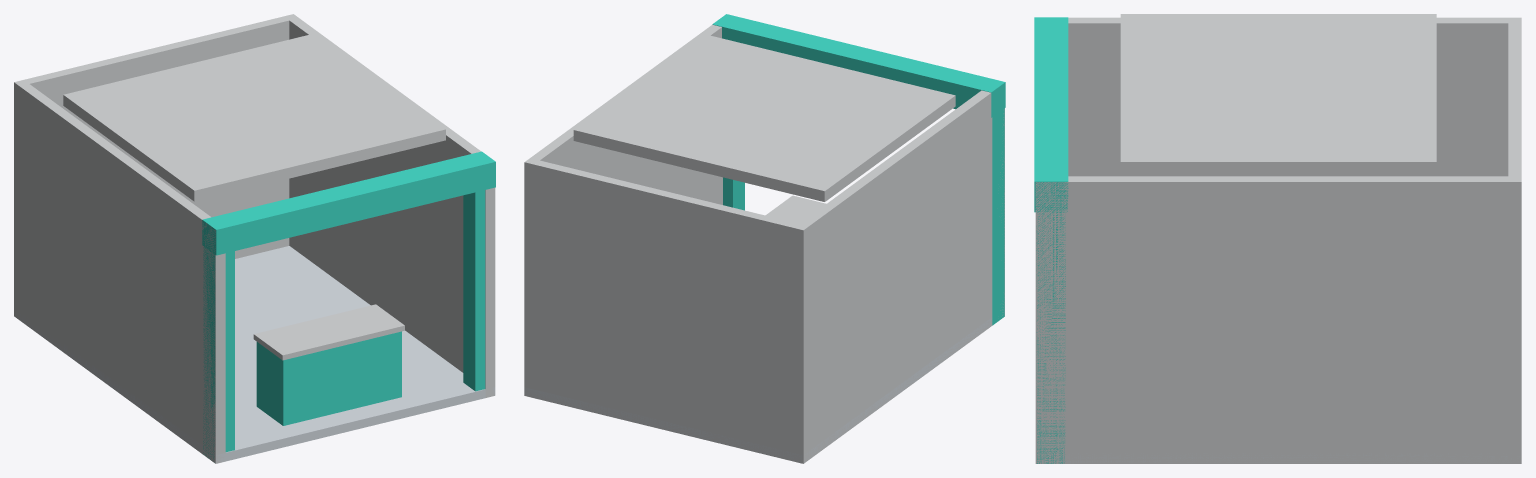
3 renders of one model, left to right at view 1: azimuth 30°, elevation 25°; view 2: azimuth 150°, elevation 25°; view 3: azimuth 270°, elevation 25°, orthographic. The views are drawn at different scales.
Parts seen in each view (by area): view 1: Exhibition Booth Concept; view 2: Exhibition Booth Concept; view 3: Exhibition Booth Concept.
Boxes of the visible parts, x1,y1,x2,y2 form: Exhibition Booth Concept: (14,14,495,463); Exhibition Booth Concept: (524,14,1005,463); Exhibition Booth Concept: (1034,14,1521,463).
Bounding box in the file's own units: 4 × 3.34 × 5.02.
